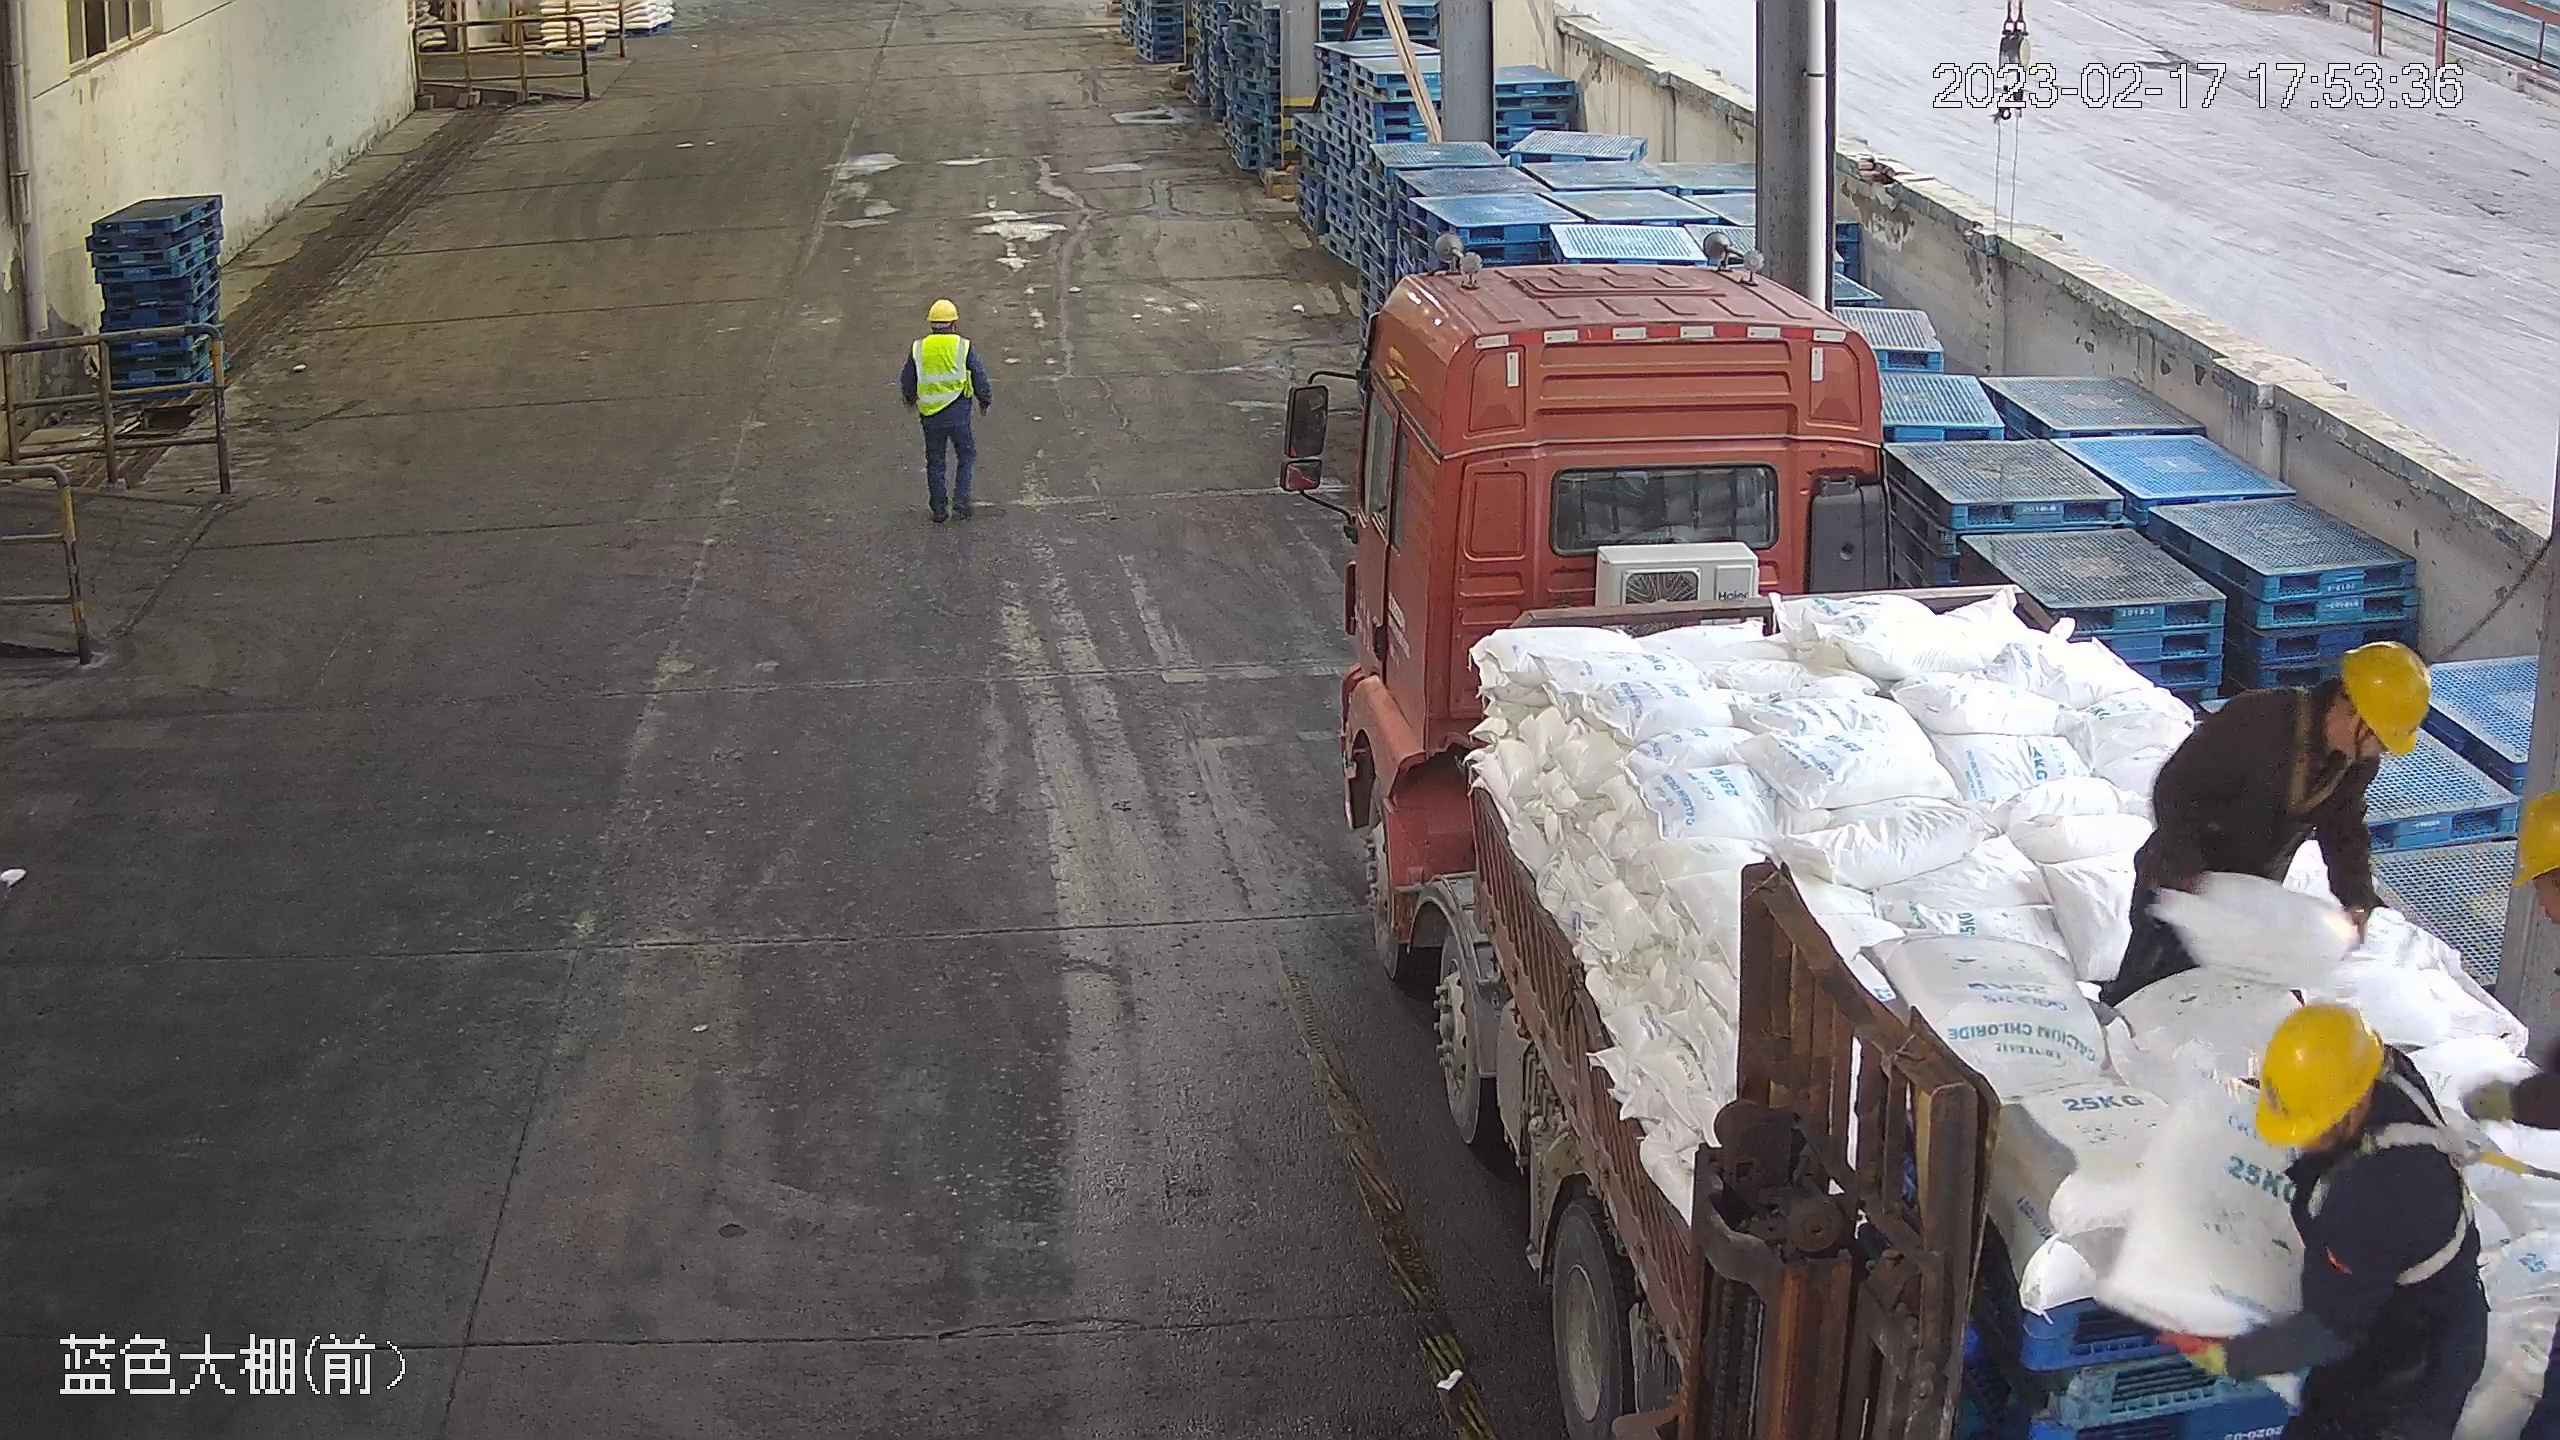belt: (2288, 1064, 2524, 1287), (2272, 684, 2355, 814)
head: (2248, 998, 2471, 1226), (2225, 639, 2430, 805), (897, 297, 980, 364)
helmet: (2251, 998, 2386, 1143), (2341, 635, 2432, 756), (2513, 784, 2560, 885), (923, 297, 964, 324)
people: (2189, 998, 2496, 1440), (2089, 643, 2433, 1018), (893, 295, 994, 526)
truck: (1280, 228, 2550, 1440)
